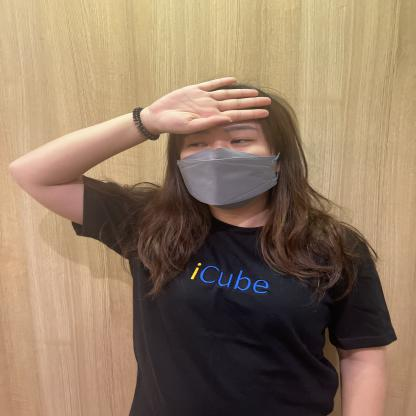Sick: (47, 13, 278, 146)
